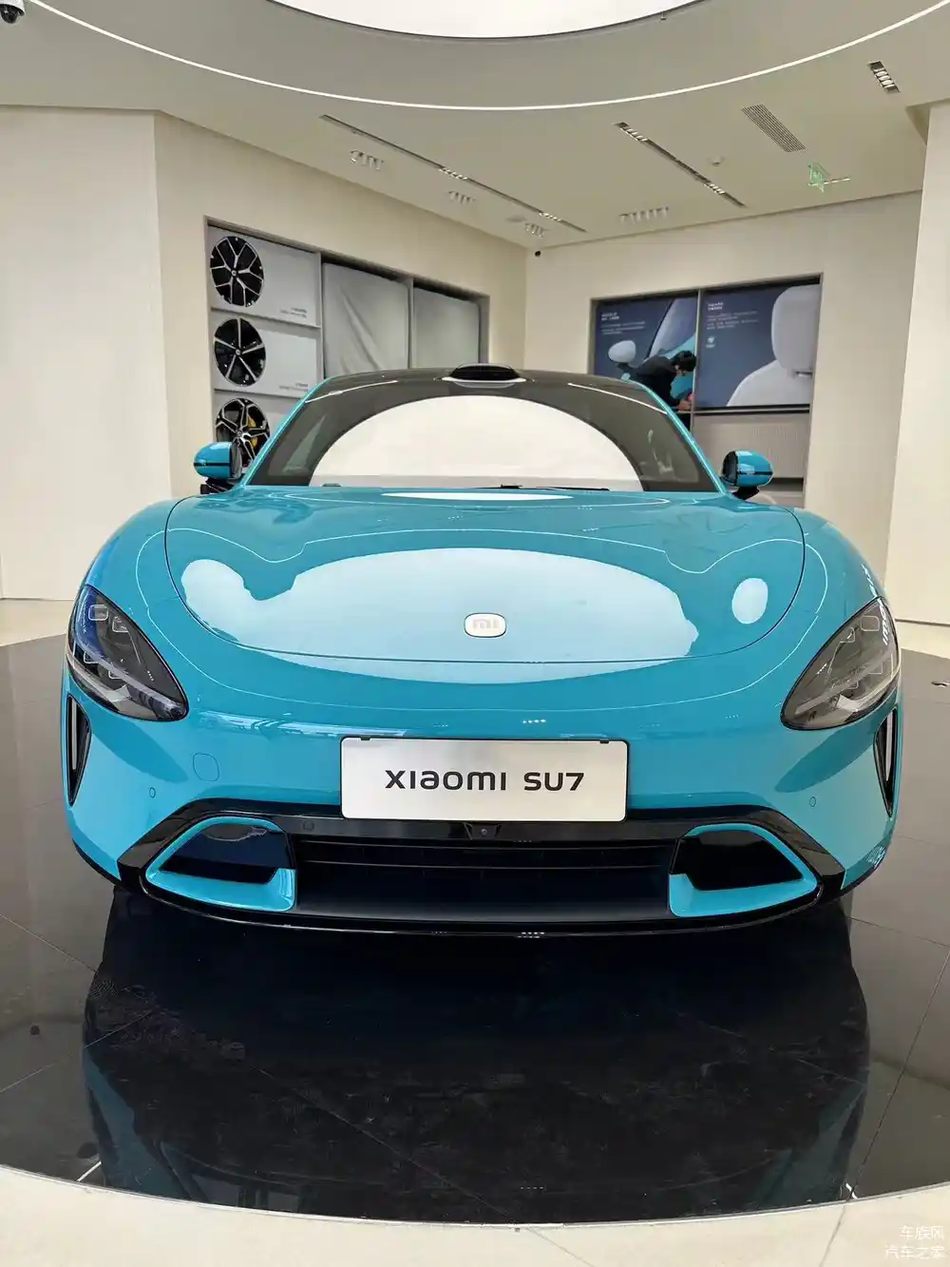su7: (68, 368, 896, 945)
